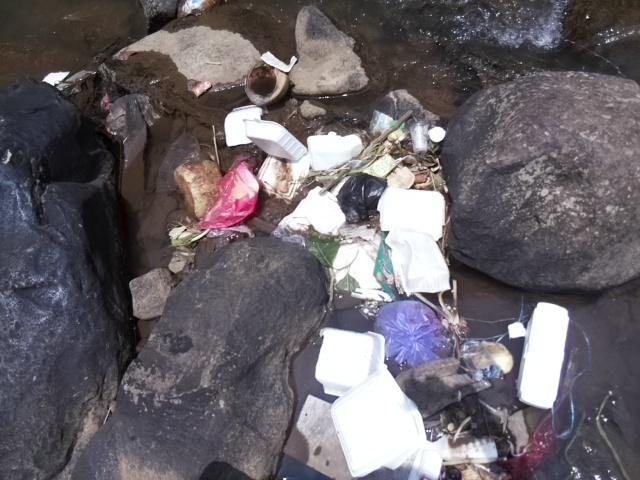Sampah_Plastik: (372, 297, 458, 369), (192, 155, 261, 242), (335, 171, 390, 223), (409, 117, 430, 155)
Sampah_Styrofoam: (325, 367, 432, 477), (221, 107, 315, 199), (515, 299, 575, 413), (313, 323, 390, 398), (384, 228, 458, 297), (376, 185, 448, 241), (282, 186, 345, 238), (301, 131, 365, 169), (258, 51, 298, 72), (41, 68, 74, 87)
